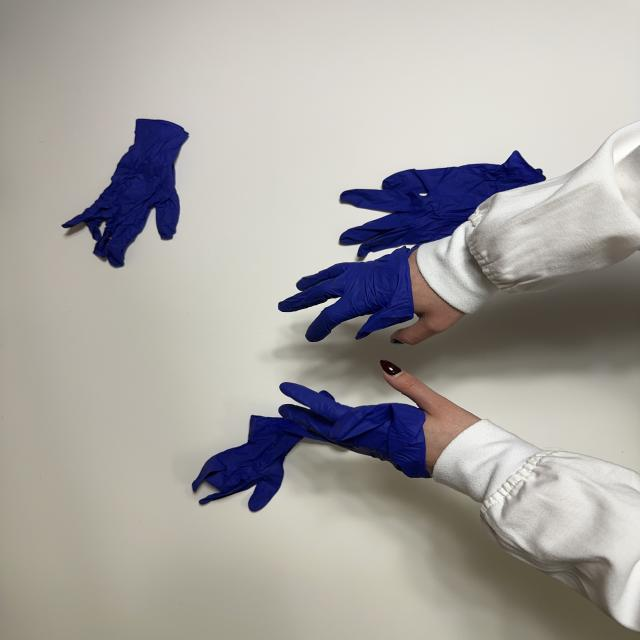glove_partial: (276, 360, 488, 480), (279, 244, 470, 350)
